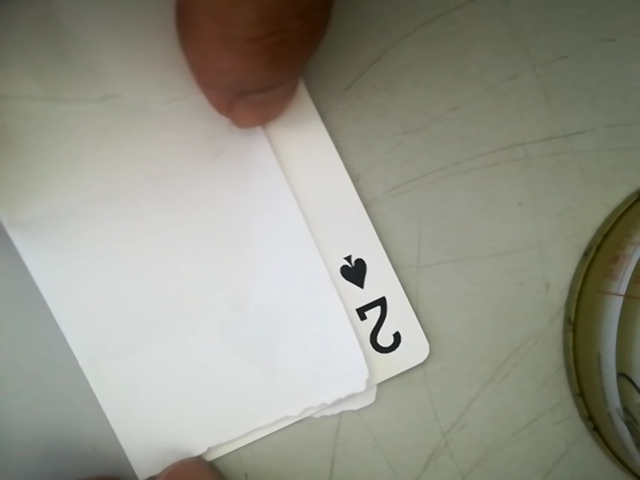ht 2: (330, 245, 413, 371)
